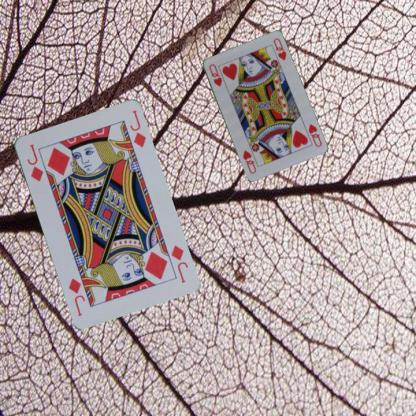Jd: (168, 242, 189, 284), (24, 141, 44, 183)
Qh: (206, 61, 223, 88), (306, 121, 323, 148)
